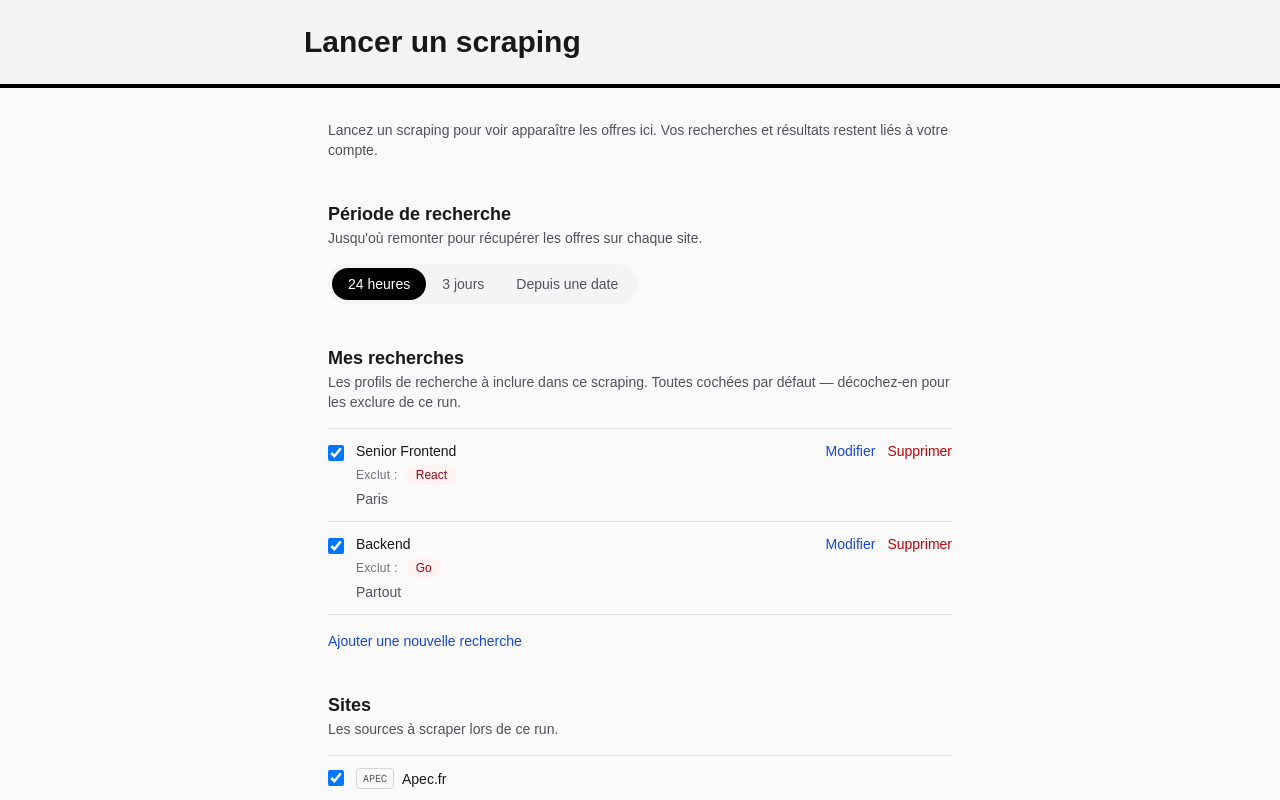
Test: HomeClient — authenticated saved-search CRUD › edits a saved search
Click the button "Modifier" in the row of "Senior Frontend" at (850, 451), box [826, 441, 875, 461]
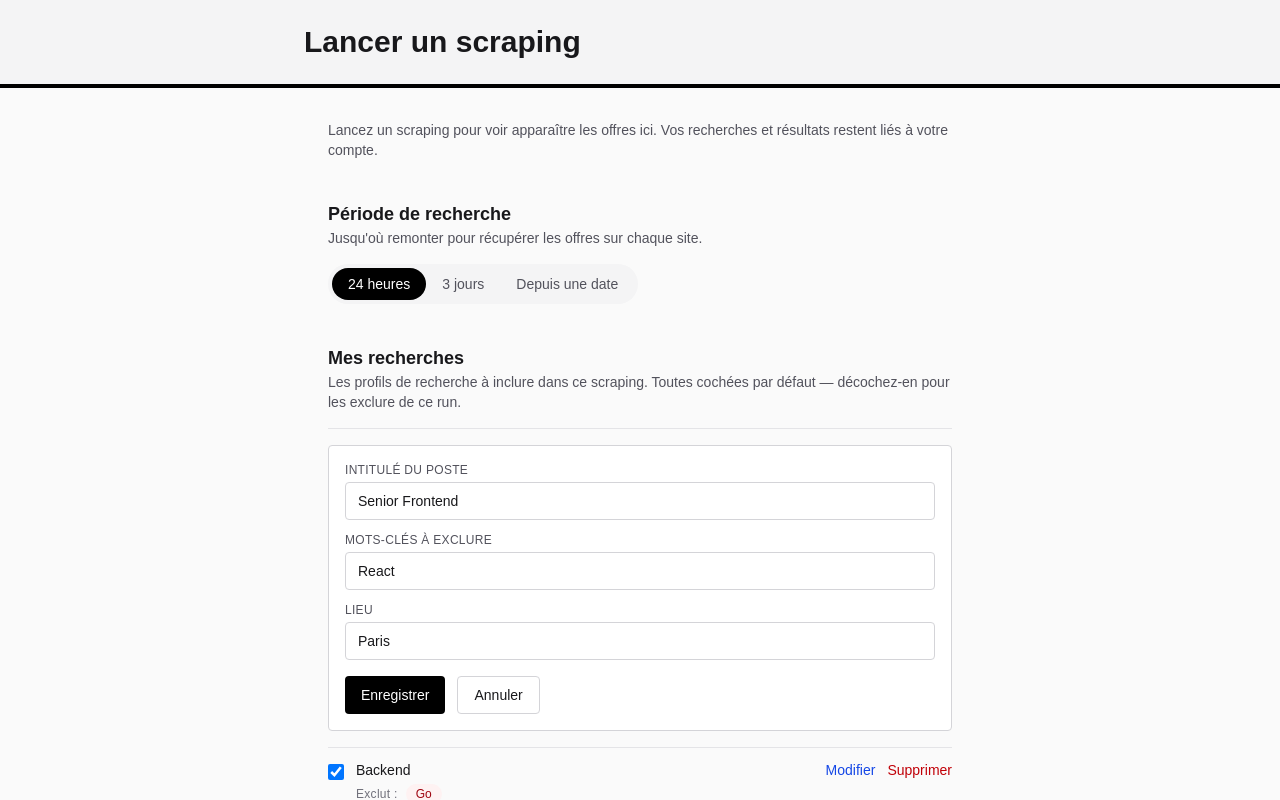
Replace the text in the field labelled "INTITULÉ DU POSTE" with "Senior Frontend FR" at (640, 501), box [345, 482, 935, 520]
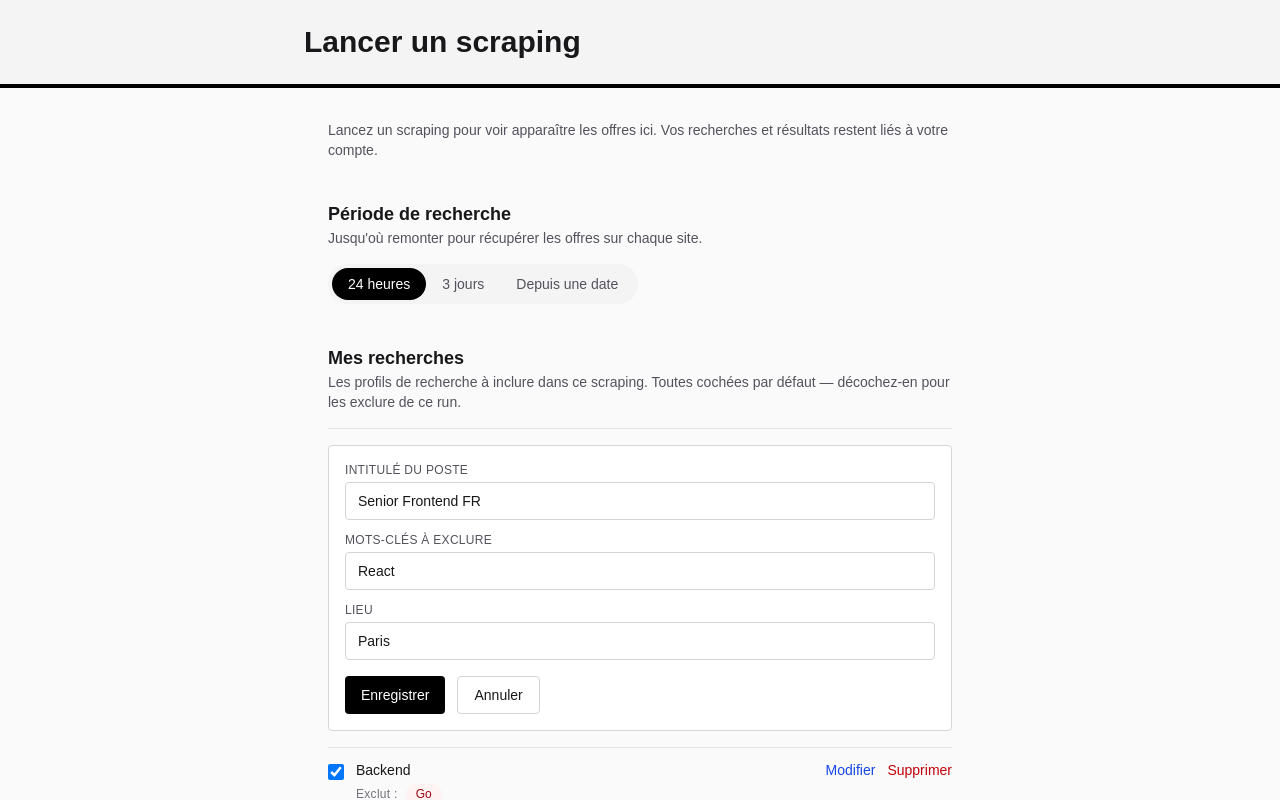
Click the button "Enregistrer" at (395, 695), box [345, 676, 446, 714]
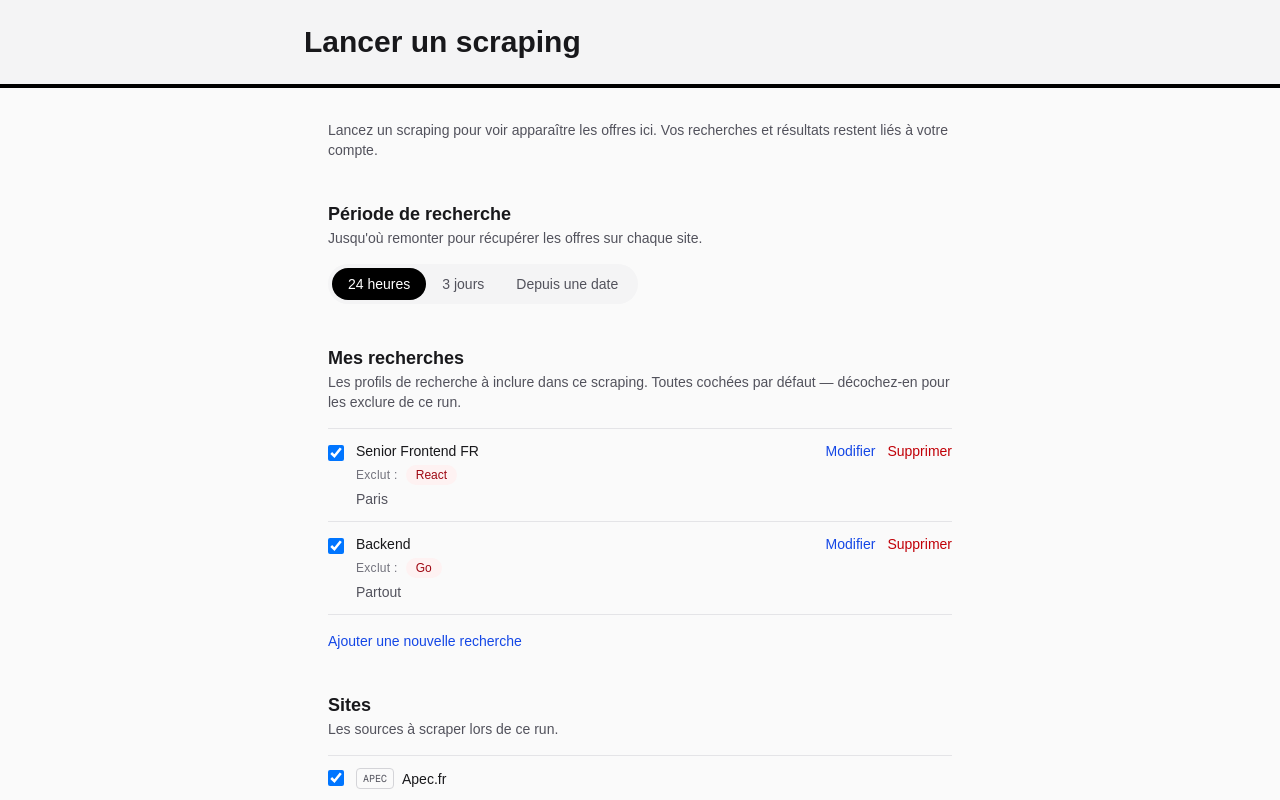
Now the text "Senior Frontend FR" is shown, box [356, 441, 479, 461]
